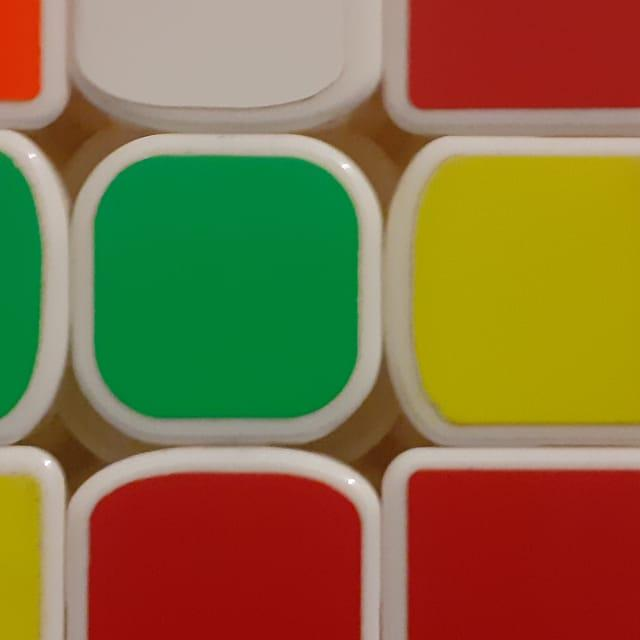Green: (82, 145, 382, 436), (0, 149, 62, 432)
Red: (71, 457, 384, 640), (388, 455, 640, 640), (399, 0, 640, 118)
White: (72, 0, 374, 113)
Yellow: (402, 147, 640, 441)
